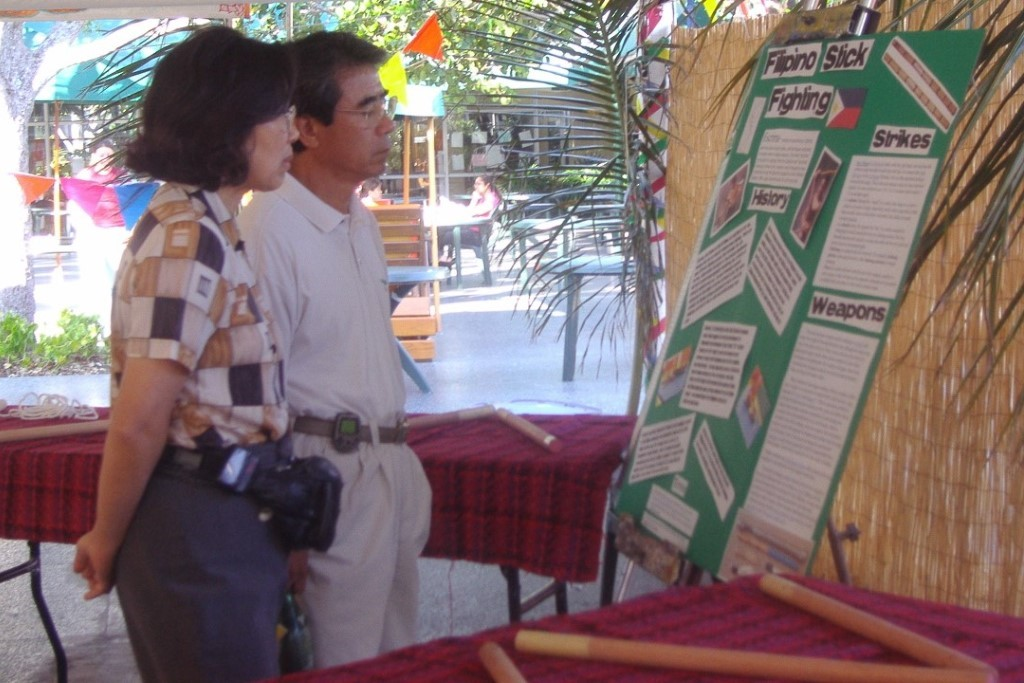baston_e: (527, 627, 968, 681), (772, 573, 956, 668)
baston_v: (471, 633, 507, 663), (506, 624, 537, 654), (752, 567, 783, 595), (973, 658, 1001, 683)
